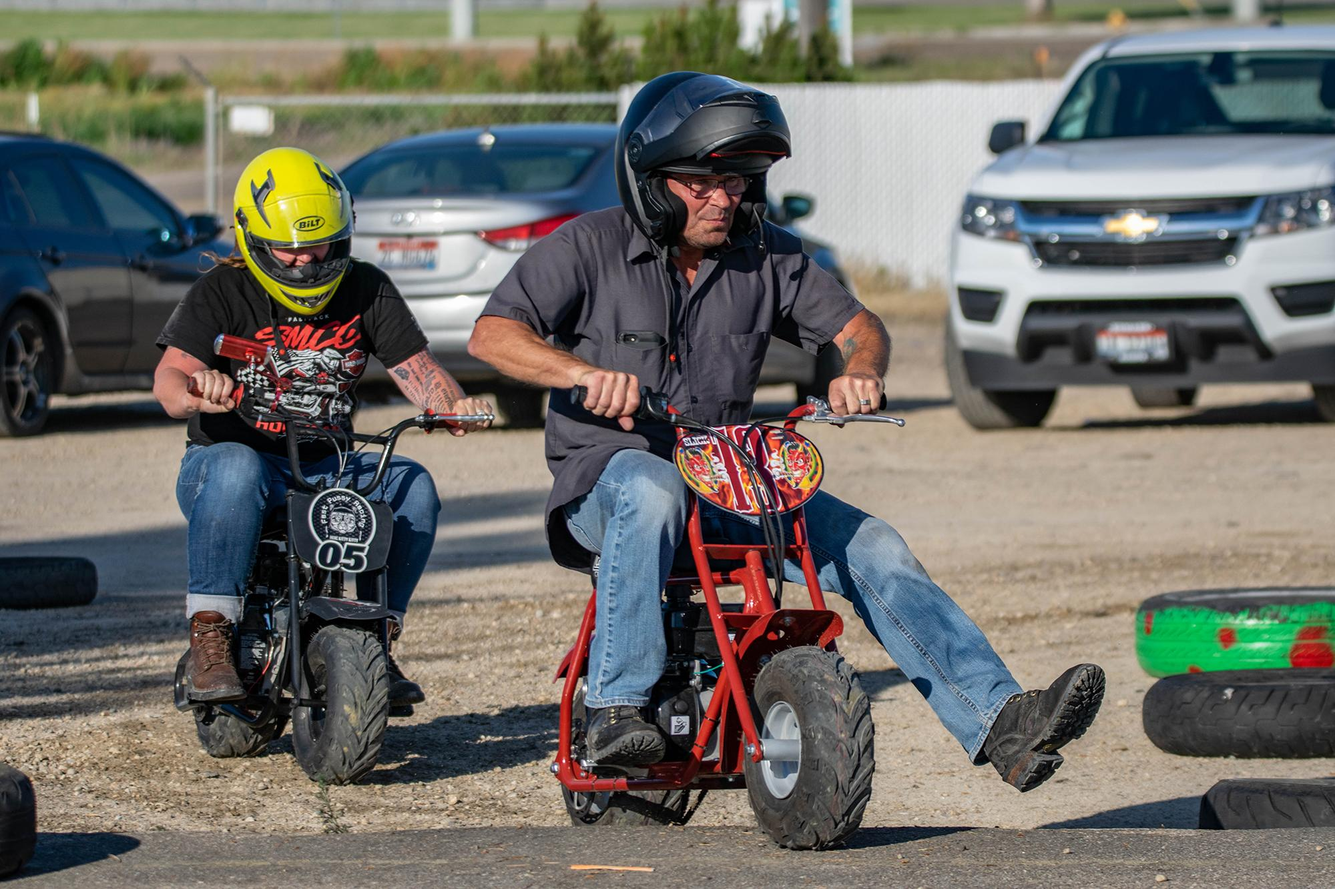helmet: (613, 69, 793, 256), (232, 145, 357, 319)
